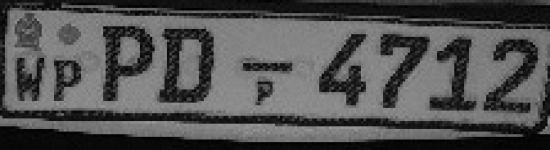-: (235, 54, 299, 78)
1: (431, 30, 480, 120)
2: (480, 31, 542, 119)
4: (308, 27, 372, 112)
7: (373, 29, 433, 115)
D: (156, 24, 217, 110)
P: (92, 18, 156, 106), (50, 54, 87, 104)
W: (9, 50, 49, 106)
